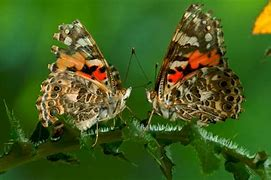insect: (144, 2, 244, 126), (33, 18, 132, 143)
